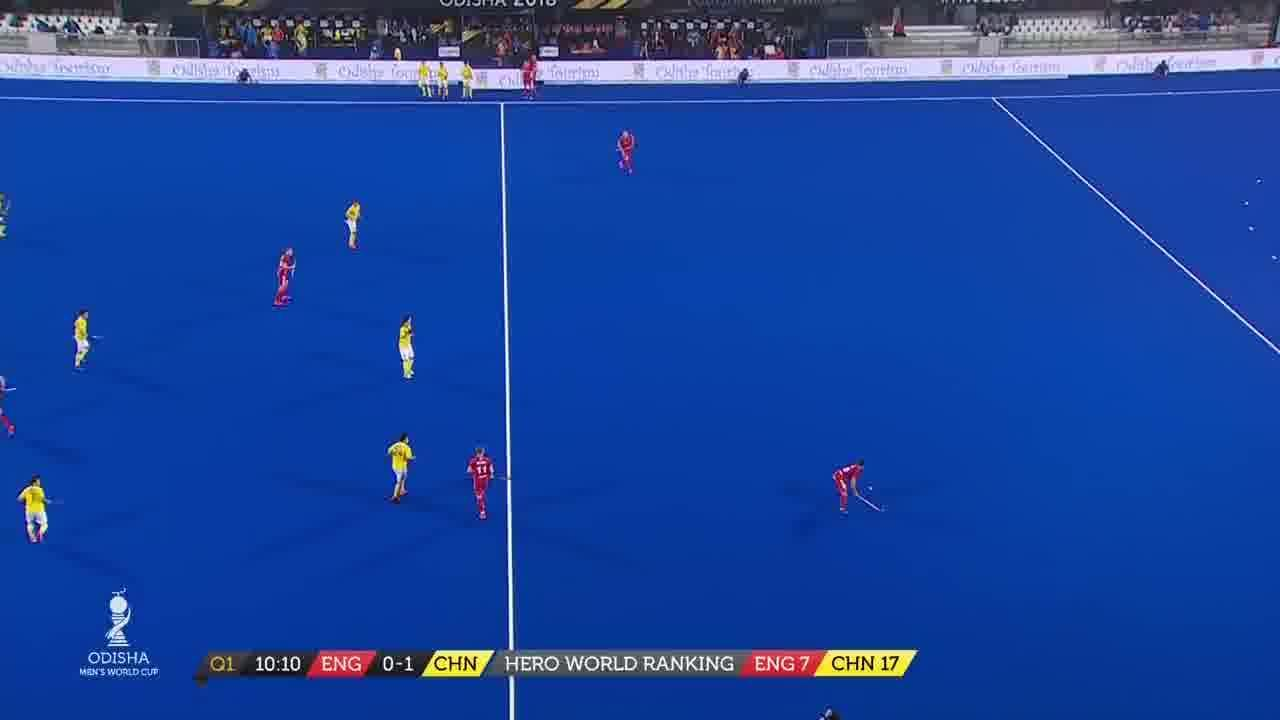ball: (863, 483, 883, 496)
